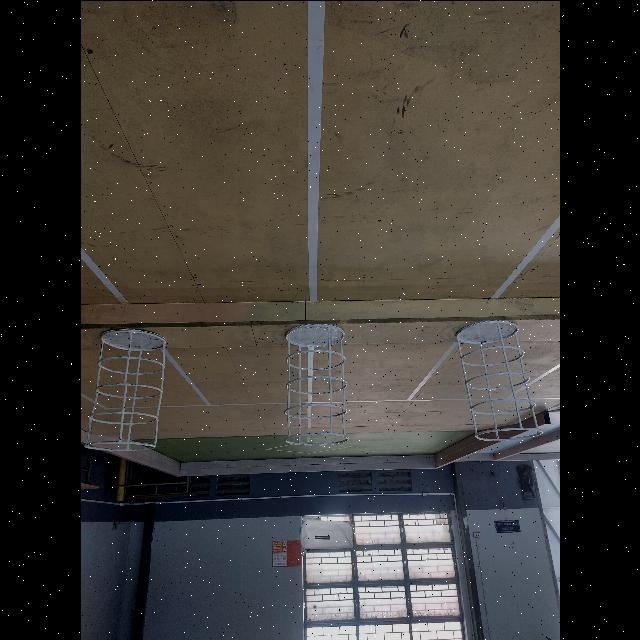S: (456, 319, 544, 440), (83, 326, 166, 453), (284, 322, 348, 445), (284, 322, 348, 444)
